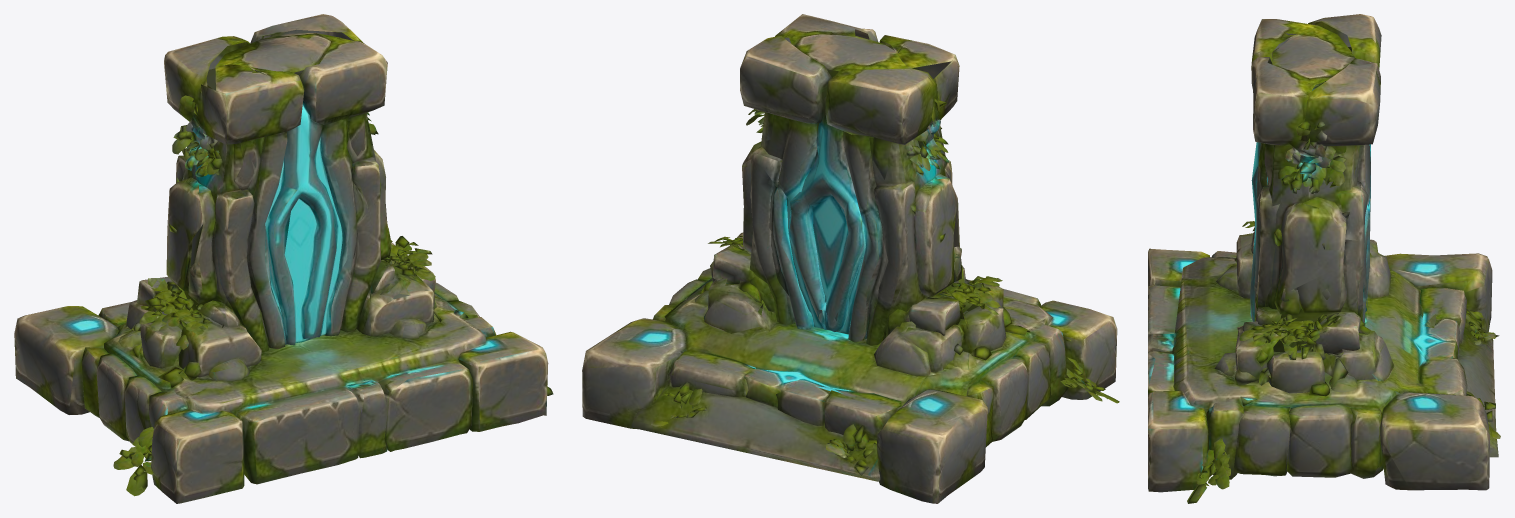
The model's file is pilar_runico.glb.
3 renders of one model, left to right at view 1: azimuth 30°, elevation 25°; view 2: azimuth 150°, elevation 25°; view 3: azimuth 270°, elevation 25°, orthographic.
Visible parts, largest first — view 1: pilar_runico_malla; view 2: pilar_runico_malla; view 3: pilar_runico_malla.
Part boxes in pixels (x1=…): pilar_runico_malla: x1=14, y1=14, x2=553, y2=503; pilar_runico_malla: x1=582, y1=14, x2=1119, y2=503; pilar_runico_malla: x1=1148, y1=14, x2=1500, y2=503.
Bounding box in the file's own units: 0.4113 × 0.3271 × 0.2978.
1 material, 1 textured.
